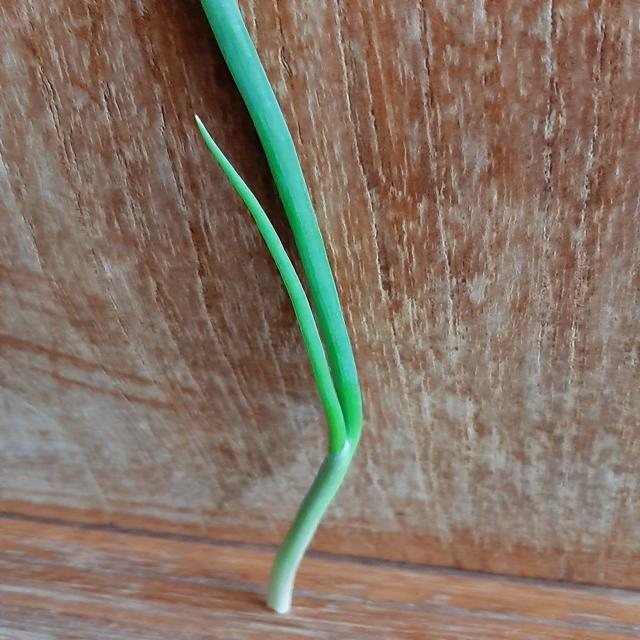onion: (198, 0, 363, 611)
